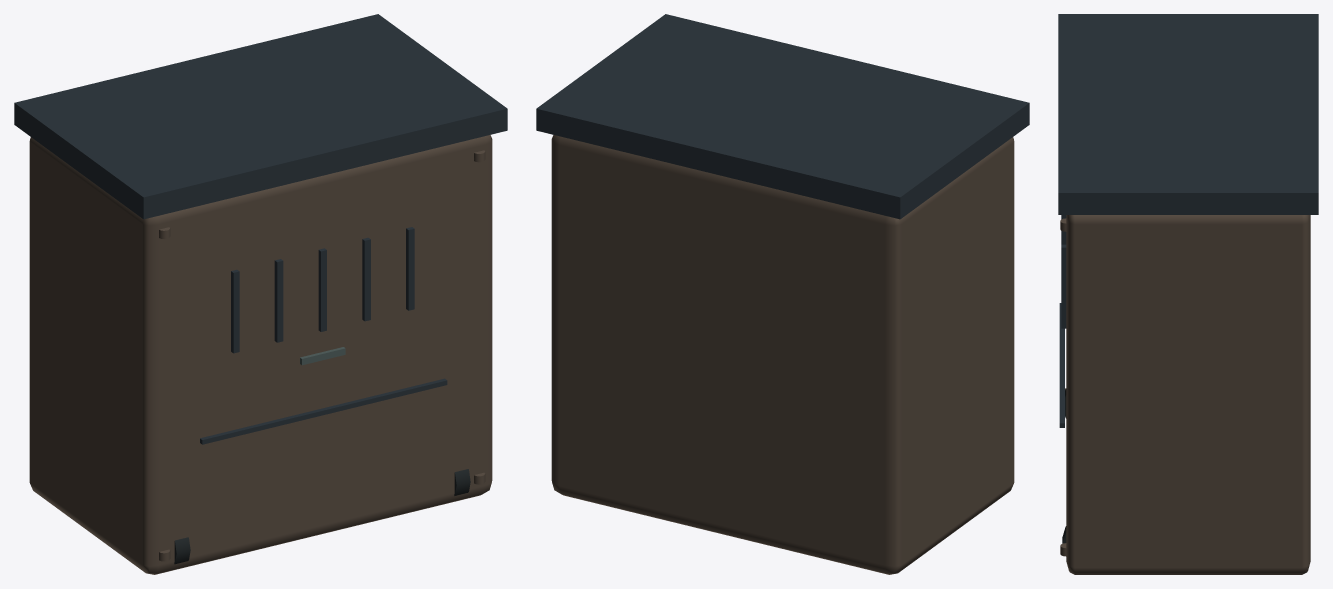
The model's file is dumpster-3.glb.
The picture shows the model from 3 angles, left to right: view 1: azimuth 30°, elevation 25°; view 2: azimuth 150°, elevation 25°; view 3: azimuth 270°, elevation 25°; orthographic projection.
Visible parts, largest first — view 1: dumpster/2/KR-230-3; view 2: dumpster/2/KR-230-3; view 3: dumpster/2/KR-230-3.
Part boxes in pixels (x1,y1,x2,y2): dumpster/2/KR-230-3: [14, 14, 507, 574]; dumpster/2/KR-230-3: [536, 14, 1029, 574]; dumpster/2/KR-230-3: [1058, 14, 1318, 574].
Bounding box in the file's own units: 2.08 × 2.12 × 1.28.
